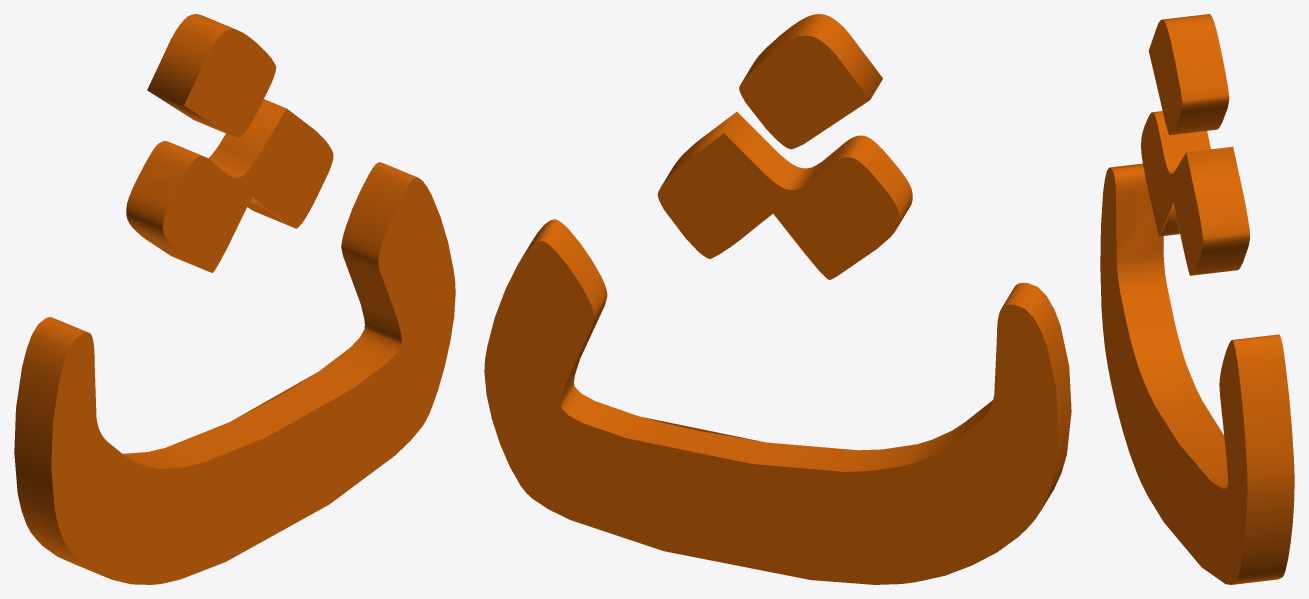
File: Tsa.fbx
The picture shows the model from 3 angles, left to right: view 1: azimuth 30°, elevation 25°; view 2: azimuth 150°, elevation 25°; view 3: azimuth 270°, elevation 25°; orthographic projection. The views are drawn at different scales.
Visible parts, largest first — view 1: tsa; view 2: tsa; view 3: tsa.
Part boxes in pixels (box(x1,y1,x2,y2)): tsa: box(14, 14, 455, 584); tsa: box(484, 14, 1071, 584); tsa: box(1100, 14, 1294, 584).
Bounding box in the file's own units: 266 × 273 × 95.67.
